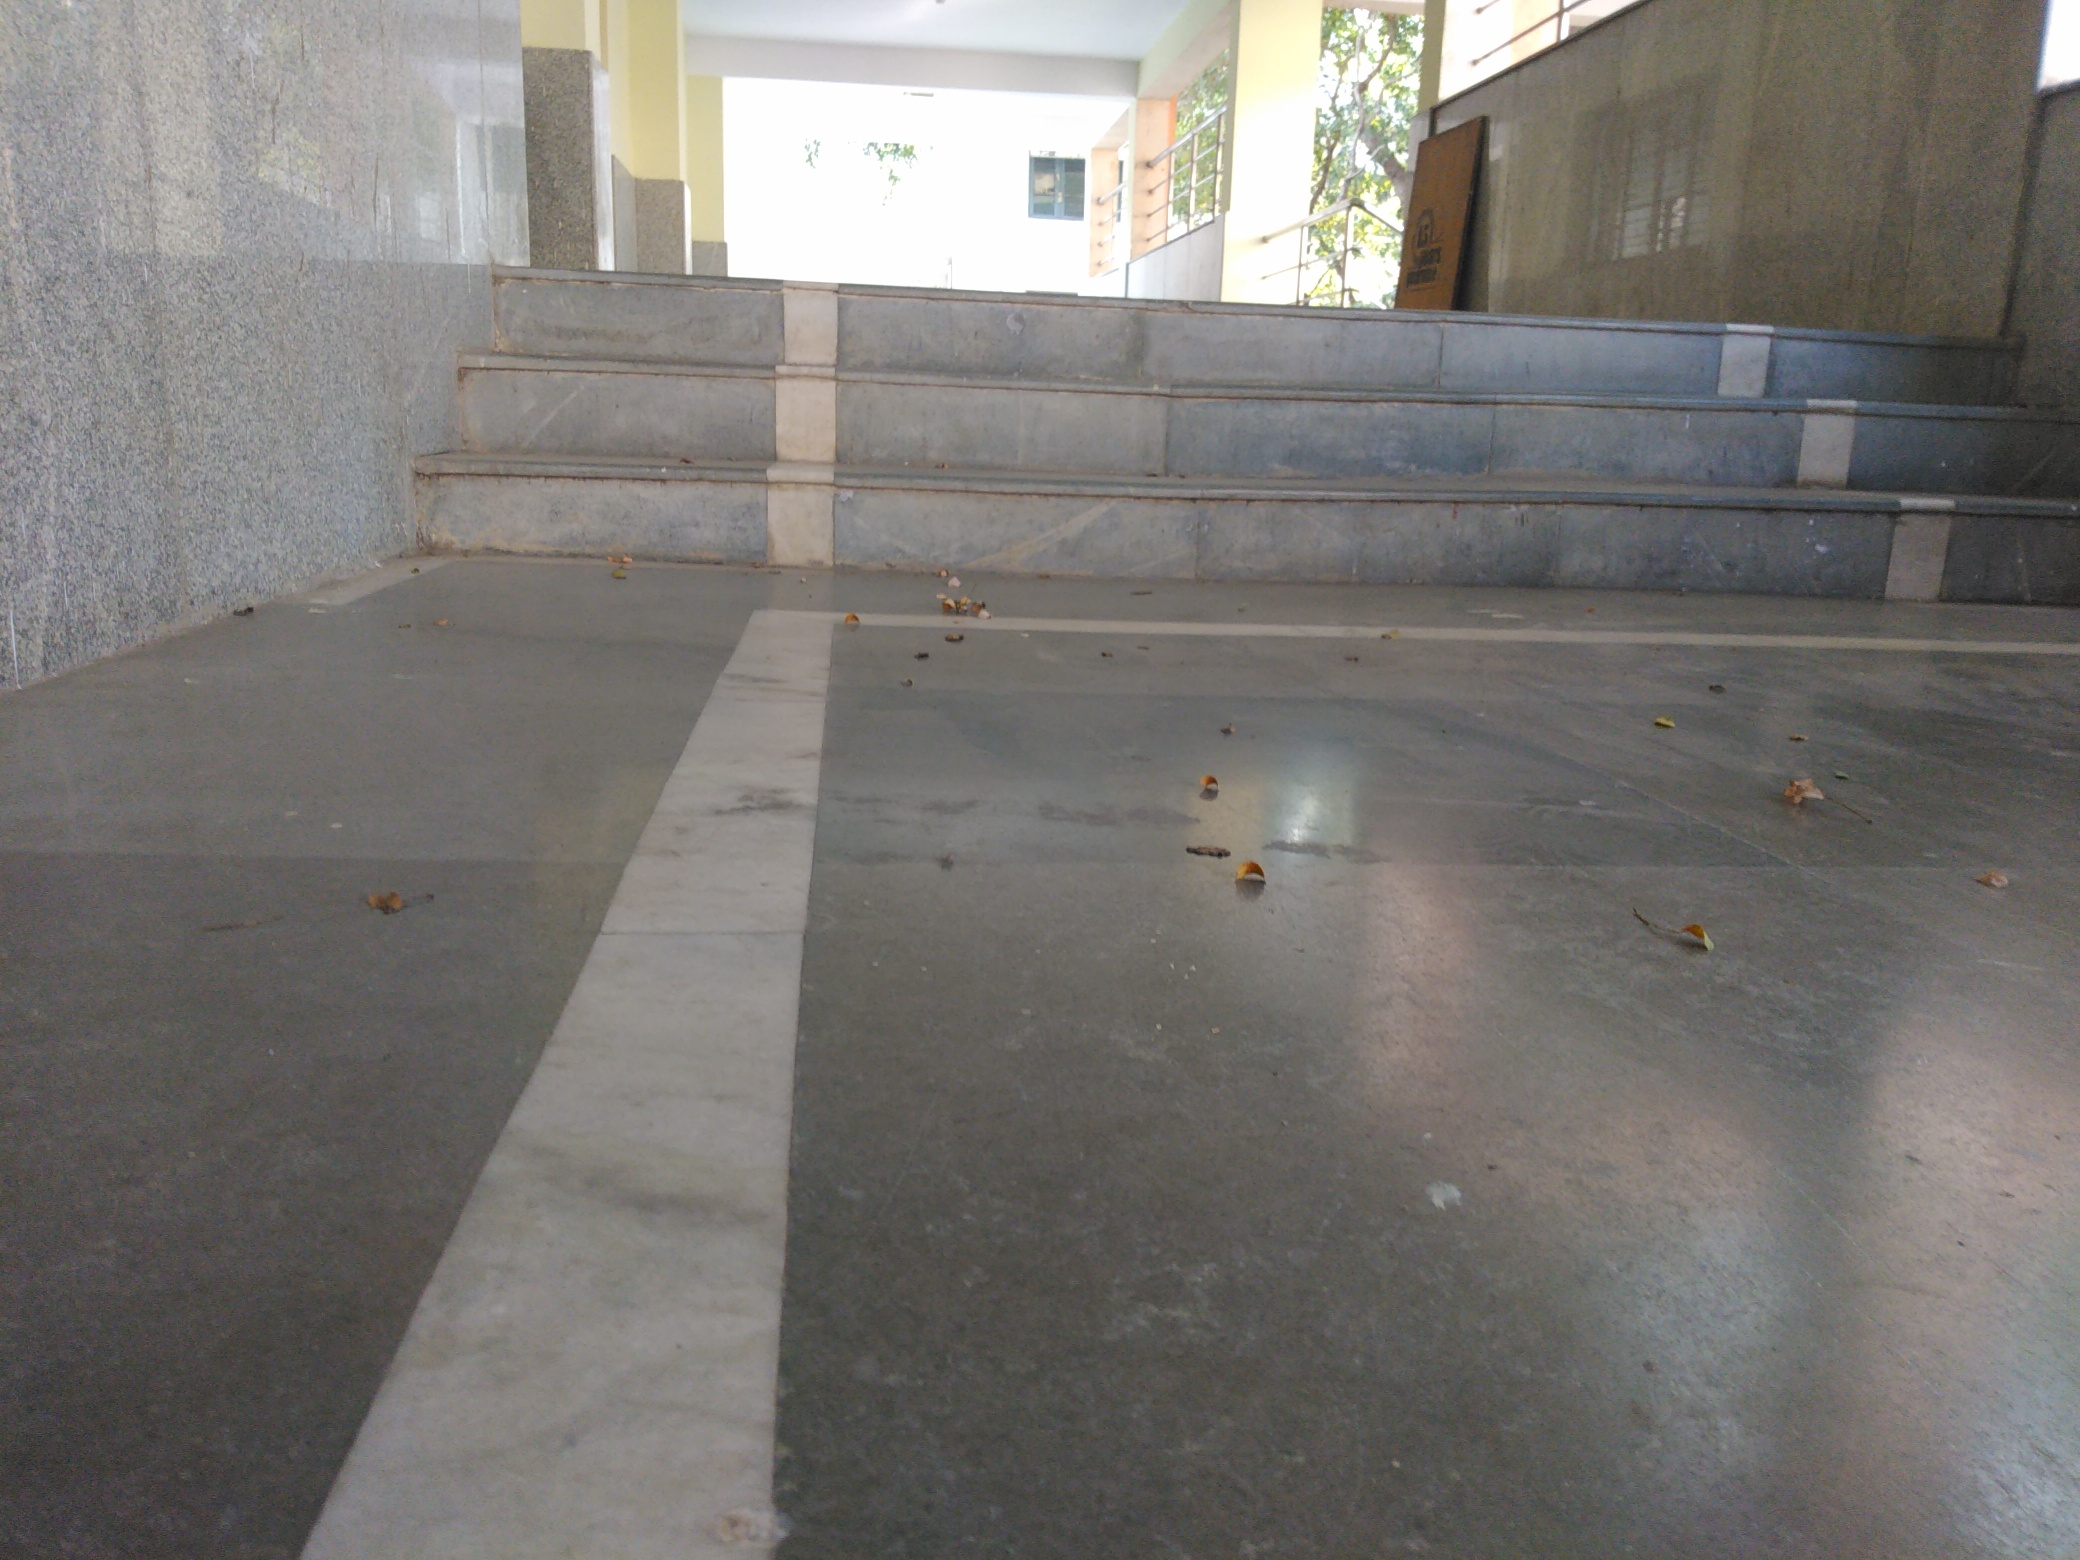stairs_up: (388, 252, 2073, 633)
